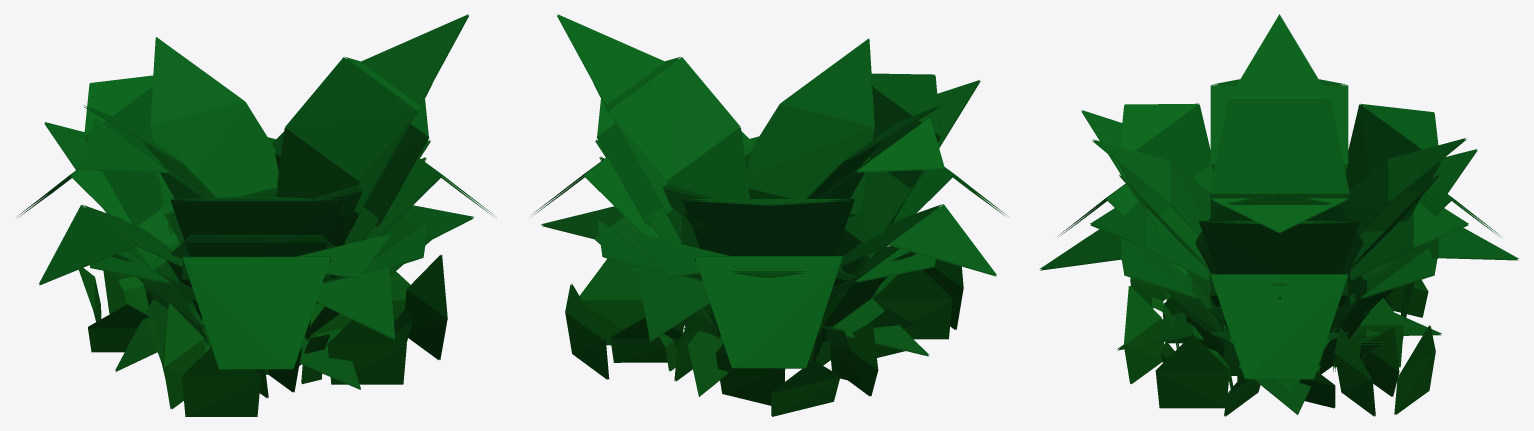
The model's file is shrubs.fbx.
3 views of the same model, side by side, from view 1: azimuth 30°, elevation 25°; view 2: azimuth 150°, elevation 25°; view 3: azimuth 270°, elevation 25° (orthographic). The views are drawn at different scales.
Parts seen in each view (by area): view 1: shrub_mesh_plant_bushDetailed, shrub_mesh_plant_bushLarge, shrub_mesh_grass_leafsLarge, shrub_mesh_plant_bush, shrub_mesh_plant_bushLargeTriangle, shrub_mesh_plant_bushTriangle, shrub_mesh_plant_bushSmall, shrub_mesh_grass_large, shrub_mesh_grass; view 2: shrub_mesh_plant_bushDetailed, shrub_mesh_grass_leafsLarge, shrub_mesh_plant_bushLarge, shrub_mesh_plant_bush, shrub_mesh_plant_bushLargeTriangle, shrub_mesh_plant_bushTriangle, shrub_mesh_grass_large, shrub_mesh_plant_bushSmall; view 3: shrub_mesh_plant_bushDetailed, shrub_mesh_plant_bushLarge, shrub_mesh_grass_leafsLarge, shrub_mesh_plant_bushLargeTriangle, shrub_mesh_plant_bush, shrub_mesh_plant_bushTriangle, shrub_mesh_plant_bushSmall, shrub_mesh_grass.
Part boxes in pixels (bbox=[...]): shrub_mesh_plant_bushDetailed: bbox=[39, 37, 473, 389]; shrub_mesh_plant_bushLarge: bbox=[84, 75, 429, 365]; shrub_mesh_grass_leafsLarge: bbox=[79, 255, 447, 416]; shrub_mesh_plant_bush: bbox=[80, 57, 432, 278]; shrub_mesh_plant_bushLargeTriangle: bbox=[17, 157, 494, 369]; shrub_mesh_plant_bushTriangle: bbox=[44, 14, 469, 312]; shrub_mesh_plant_bushSmall: bbox=[112, 157, 426, 320]; shrub_mesh_grass_large: bbox=[118, 276, 393, 398]; shrub_mesh_grass: bbox=[208, 319, 351, 384]; shrub_mesh_plant_bushDetailed: bbox=[541, 38, 996, 396]; shrub_mesh_grass_leafsLarge: bbox=[565, 258, 963, 416]; shrub_mesh_plant_bushLarge: bbox=[596, 73, 940, 368]; shrub_mesh_plant_bush: bbox=[593, 56, 944, 277]; shrub_mesh_plant_bushLargeTriangle: bbox=[531, 157, 1008, 368]; shrub_mesh_plant_bushTriangle: bbox=[557, 14, 980, 298]; shrub_mesh_grass_large: bbox=[659, 298, 873, 380]; shrub_mesh_plant_bushSmall: bbox=[599, 156, 916, 300]; shrub_mesh_plant_bushDetailed: bbox=[1039, 14, 1518, 414]; shrub_mesh_plant_bushLarge: bbox=[1118, 103, 1440, 374]; shrub_mesh_grass_leafsLarge: bbox=[1123, 277, 1435, 416]; shrub_mesh_plant_bushLargeTriangle: bbox=[1057, 183, 1501, 379]; shrub_mesh_plant_bush: bbox=[1090, 79, 1468, 283]; shrub_mesh_plant_bushTriangle: bbox=[1081, 110, 1477, 301]; shrub_mesh_plant_bushSmall: bbox=[1119, 174, 1439, 329]; shrub_mesh_grass: bbox=[1152, 293, 1354, 380].
Bounding box in the file's own units: 1.81 × 1.09 × 1.81.
